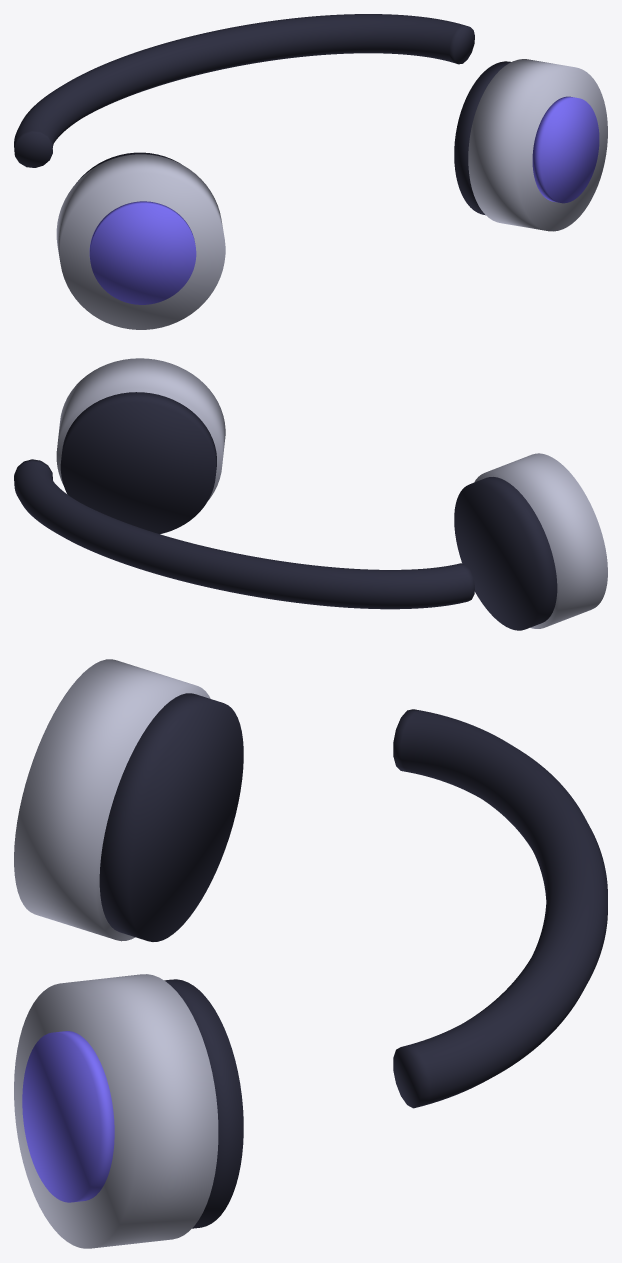
File: homie_headphones.glb
3 views of the same model, one above another, from view 1: azimuth 30°, elevation 25°; view 2: azimuth 150°, elevation 25°; view 3: azimuth 270°, elevation 25° (orthographic). The views are drawn at different scales.
Visible parts, largest first — view 1: homie_headphones__headband, homie_headphones__cup_r, homie_headphones__cup_l, homie_headphones__insert_r, homie_headphones__insert_l, homie_headphones__pad_l; view 2: homie_headphones__headband, homie_headphones__pad_l, homie_headphones__pad_r, homie_headphones__cup_r, homie_headphones__cup_l; view 3: homie_headphones__cup_l, homie_headphones__headband, homie_headphones__pad_r, homie_headphones__cup_r, homie_headphones__insert_l, homie_headphones__pad_l.
Part boxes in pixels (<box>): homie_headphones__headband: <box>14,14,474,167</box>; homie_headphones__cup_r: <box>56,154,225,329</box>; homie_headphones__cup_l: <box>468,59,607,231</box>; homie_headphones__insert_r: <box>89,201,196,304</box>; homie_headphones__insert_l: <box>532,96,599,203</box>; homie_headphones__pad_l: <box>454,61,510,215</box>; homie_headphones__headband: <box>14,459,474,609</box>; homie_headphones__pad_l: <box>60,392,216,533</box>; homie_headphones__pad_r: <box>454,477,557,630</box>; homie_headphones__cup_r: <box>474,453,607,628</box>; homie_headphones__cup_l: <box>56,358,225,500</box>; homie_headphones__cup_l: <box>14,974,218,1248</box>; homie_headphones__headband: <box>393,709,607,1108</box>; homie_headphones__pad_r: <box>99,693,243,941</box>; homie_headphones__cup_r: <box>14,659,210,941</box>; homie_headphones__insert_l: <box>22,1031,114,1202</box>; homie_headphones__pad_l: <box>164,979,243,1228</box>.
Bounding box in the file's own units: 1.55 × 0.4177 × 0.9032.
